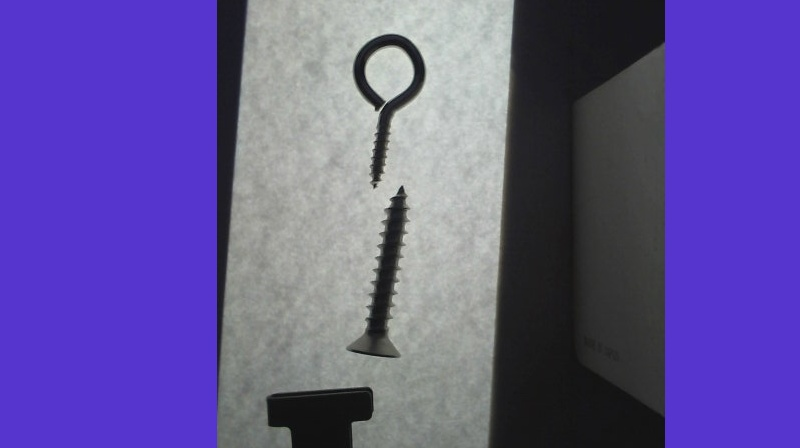O001: (349, 33, 423, 188)
O002: (264, 384, 378, 447)
S001: (344, 183, 409, 358)
